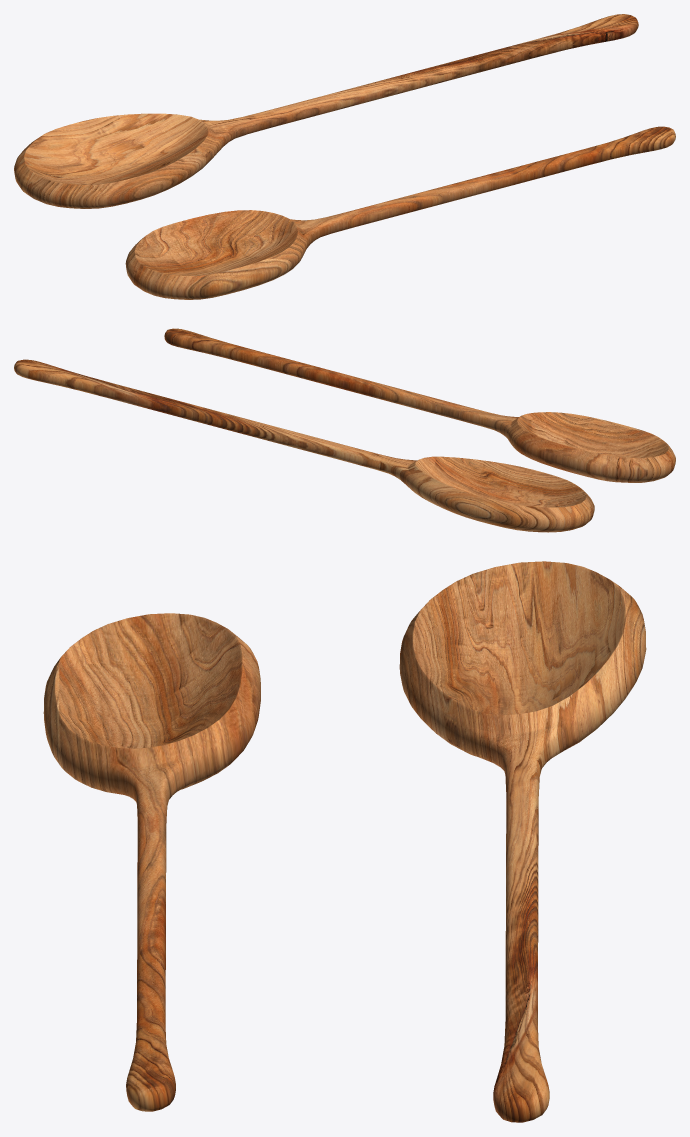
Rendered from spoon.glb.
3 views of the same model, one above another, from view 1: azimuth 30°, elevation 25°; view 2: azimuth 150°, elevation 25°; view 3: azimuth 270°, elevation 25° (orthographic). The views are drawn at different scales.
Visible parts, largest first — view 1: spoon; view 2: spoon; view 3: spoon.
Boxes of the visible parts, bbox=[...] form: spoon: bbox=[14, 14, 675, 299]; spoon: bbox=[14, 328, 675, 532]; spoon: bbox=[43, 561, 646, 1122].
Size of the model in its own units: 0.4035 by 0.0432 by 0.1836.
1 material, 1 textured.
